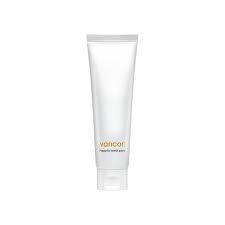toothpaste: (78, 24, 149, 197)
